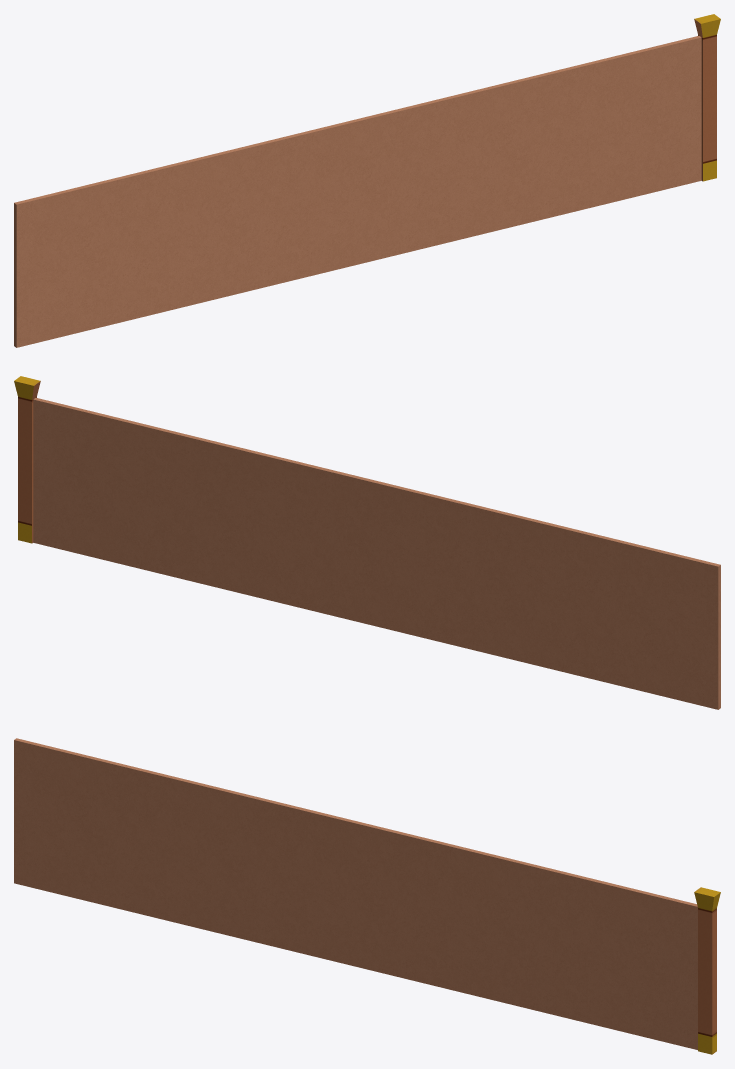
Rendered from O_WALL.fbx.
The picture shows the model from 3 angles, top to bottom: view 1: azimuth 30°, elevation 25°; view 2: azimuth 150°, elevation 25°; view 3: azimuth 330°, elevation 25°; orthographic projection.
Visible parts, largest first — view 1: O_WALL, O_PILLAR; view 2: O_WALL, O_PILLAR; view 3: O_WALL, O_PILLAR.
Boxes of the visible parts, left/top/right/bottom form: O_WALL: left=14, top=35, right=701, bottom=347; O_PILLAR: left=694, top=14, right=720, bottom=181; O_WALL: left=33, top=397, right=720, bottom=709; O_PILLAR: left=14, top=376, right=40, bottom=543; O_WALL: left=14, top=738, right=697, bottom=1049; O_PILLAR: left=694, top=887, right=720, bottom=1054.
Size of the model in its own units: 1408 by 305 by 23.65.
